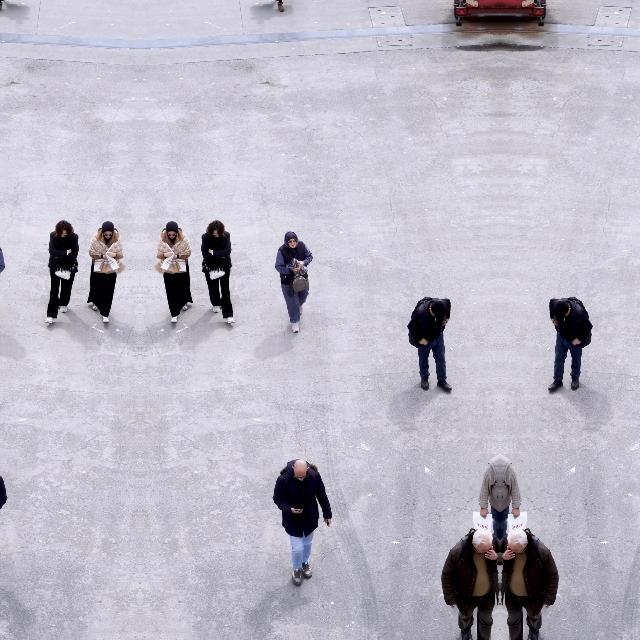person: (272, 458, 334, 586), (440, 528, 500, 640), (500, 528, 560, 640), (407, 296, 453, 392), (547, 296, 593, 392), (274, 230, 314, 334), (155, 220, 193, 324), (87, 220, 125, 324), (201, 220, 235, 324), (45, 220, 79, 324), (478, 453, 500, 539), (500, 453, 522, 539), (0, 458, 7, 585), (0, 230, 5, 333), (276, 0, 284, 12), (0, 0, 4, 12)
